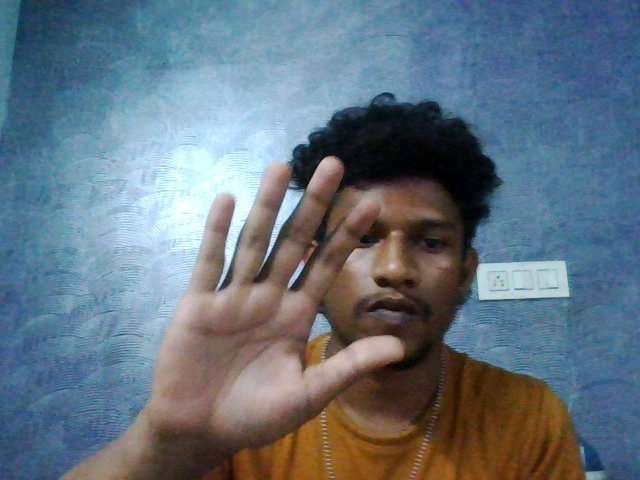hello: (160, 151, 414, 441)
